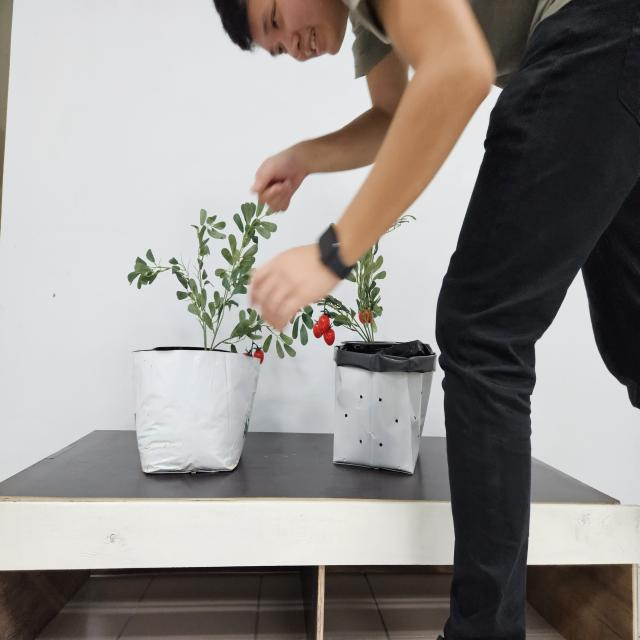Soilbag: (130, 347, 260, 479), (332, 342, 436, 478)
Tomato: (312, 312, 336, 345)
plant: (126, 203, 296, 360), (313, 244, 386, 346)
